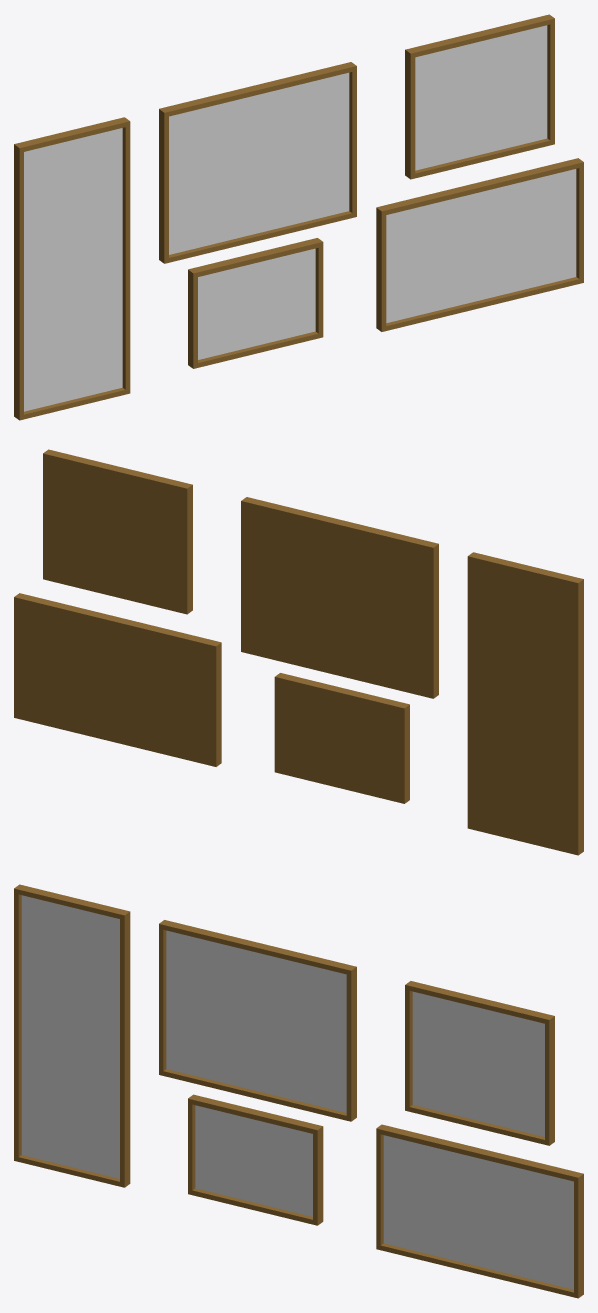
Rendered from frame_hall.fbx.
The picture shows the model from 3 angles, top to bottom: view 1: azimuth 30°, elevation 25°; view 2: azimuth 150°, elevation 25°; view 3: azimuth 330°, elevation 25°; orthographic projection.
Visible parts, largest first — view 1: hall_canvas1, hall_canvas2, hall_canvas5, hall_canvas4, hall_canvas3, hall_frame1, hall_frame2, hall_frame5, hall_frame4, hall_frame3; view 2: hall_frame1, hall_frame2, hall_frame5, hall_frame4, hall_frame3; view 3: hall_canvas1, hall_canvas2, hall_canvas5, hall_canvas4, hall_canvas3, hall_frame1, hall_frame2, hall_frame5, hall_frame4, hall_frame3.
Part boxes in pixels (x1,y1,x2,y2): hall_canvas1: [24, 128, 122, 411]; hall_canvas2: [169, 72, 349, 254]; hall_canvas5: [386, 169, 576, 323]; hall_canvas4: [415, 25, 547, 170]; hall_canvas3: [198, 248, 315, 359]; hall_frame1: [14, 117, 130, 420]; hall_frame2: [159, 62, 356, 263]; hall_frame5: [376, 158, 583, 331]; hall_frame4: [405, 14, 554, 179]; hall_frame3: [188, 238, 323, 368]; hall_frame1: [467, 552, 583, 855]; hall_frame2: [241, 497, 438, 698]; hall_frame5: [14, 593, 221, 766]; hall_frame4: [43, 449, 192, 614]; hall_frame3: [274, 673, 409, 803]; hall_canvas1: [21, 895, 119, 1178]; hall_canvas2: [166, 930, 346, 1112]; hall_canvas5: [383, 1135, 573, 1289]; hall_canvas4: [412, 991, 544, 1136]; hall_canvas3: [195, 1105, 312, 1216]; hall_frame1: [14, 884, 130, 1187]; hall_frame2: [159, 920, 356, 1121]; hall_frame5: [376, 1124, 583, 1298]; hall_frame4: [405, 981, 554, 1145]; hall_frame3: [188, 1094, 323, 1225].
Size of the model in its own units: 390 by 180 by 6.64.
